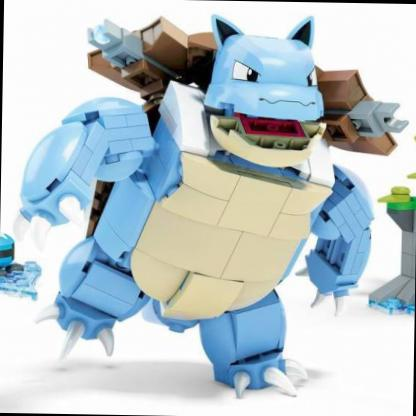Blastoise: (1, 1, 385, 393)
